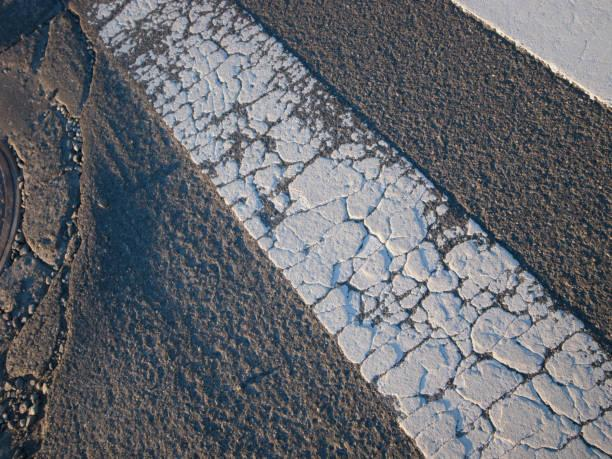faded_road_lines: (79, 0, 611, 458)
